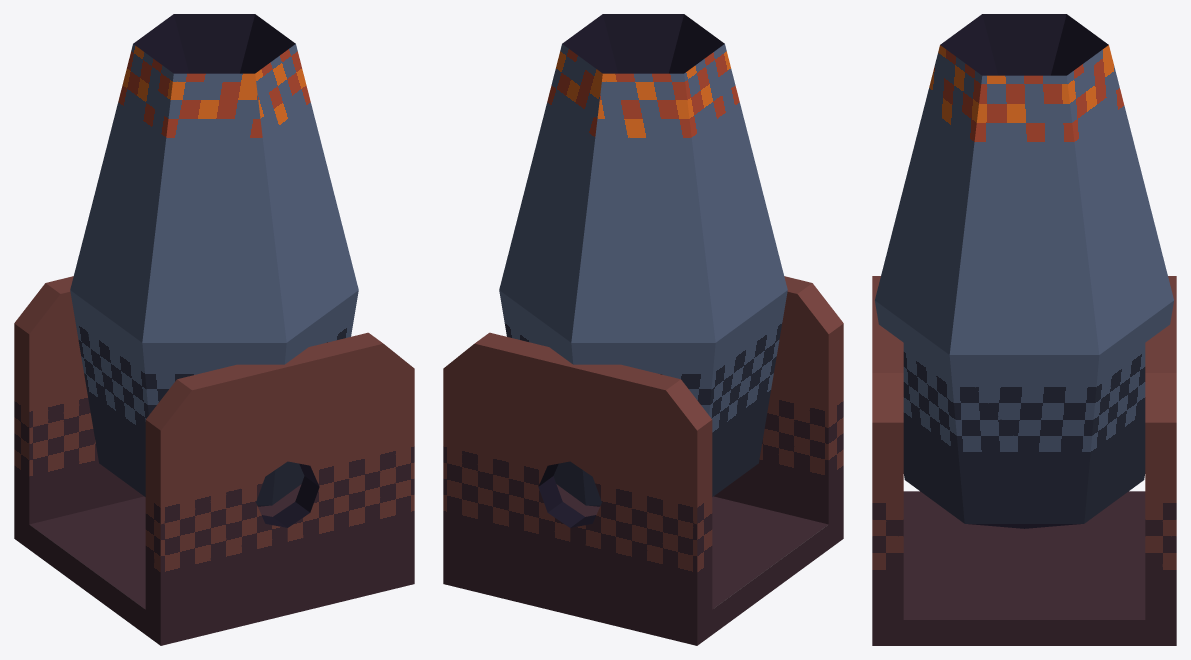
File: Cannon.fbx
The picture shows the model from 3 angles, left to right: view 1: azimuth 30°, elevation 25°; view 2: azimuth 150°, elevation 25°; view 3: azimuth 270°, elevation 25°; orthographic projection. The views are drawn at different scales.
Parts seen in each view (by area): view 1: Support, Cannon; view 2: Support, Cannon; view 3: Cannon, Support.
Boxes of the visible parts, box(x1,y1,x2,y2) form: Support: box(14, 276, 414, 645); Cannon: box(70, 14, 358, 506); Support: box(443, 276, 843, 645); Cannon: box(499, 14, 787, 506); Cannon: box(875, 14, 1173, 528); Support: box(872, 276, 1176, 645).
Bounding box in the file's own units: 200 × 389 × 200.
